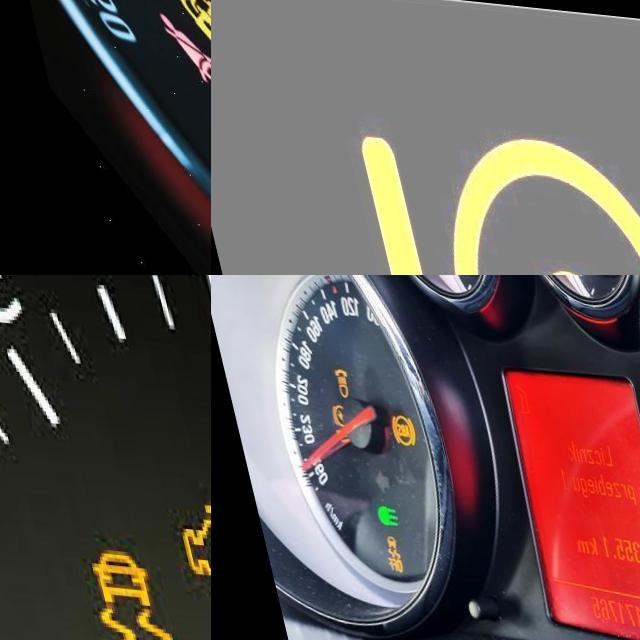Electronic Power Steering: (338, 107, 640, 275)
Seat Belt: (136, 9, 208, 83)
